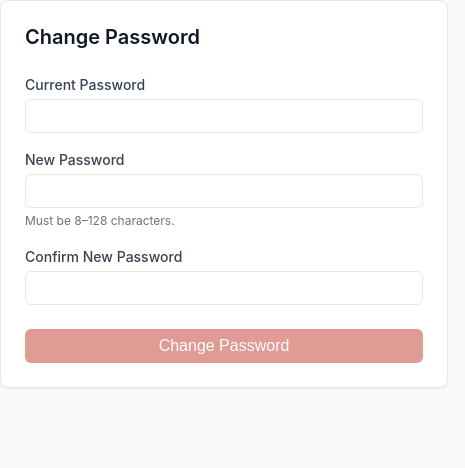
PasswordChangeForm › shows success message on successful password change
Type "currentPass1" into the password field with id "current-password" at (224, 116), box x1=25 y1=99 x2=423 y2=133
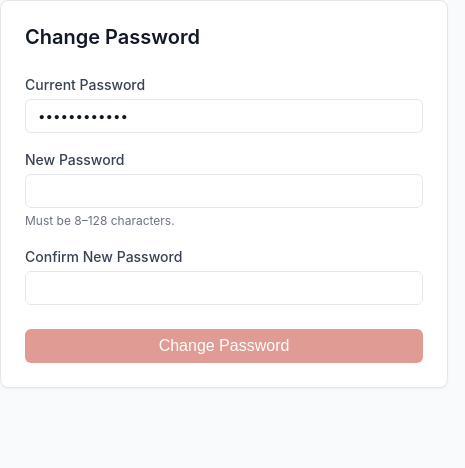
Type "newPassword123" into the password field with id "new-password" at (224, 191), box x1=25 y1=174 x2=423 y2=208
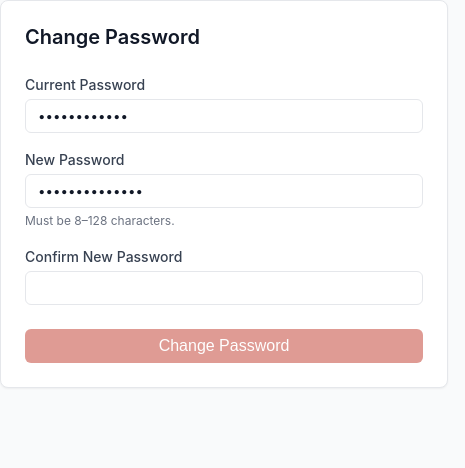
Type "newPassword123" into the password field with id "confirm-password" at (224, 288), box x1=25 y1=271 x2=423 y2=305
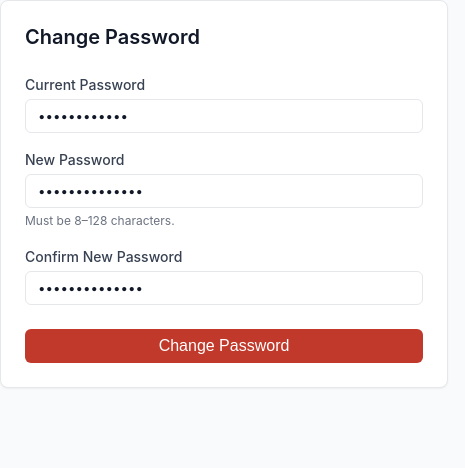
Submit the form, box x1=25 y1=74 x2=423 y2=363
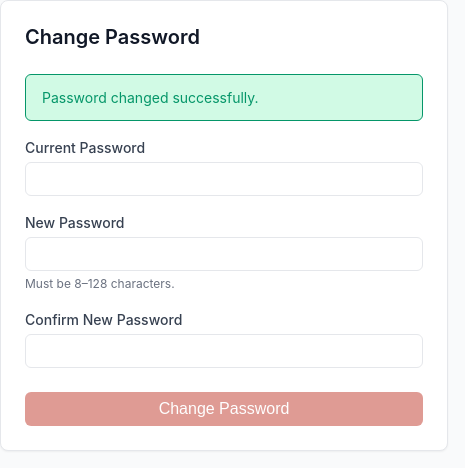
Expected: the text "Password changed successfully." is shown, x1=25 y1=74 x2=423 y2=121
